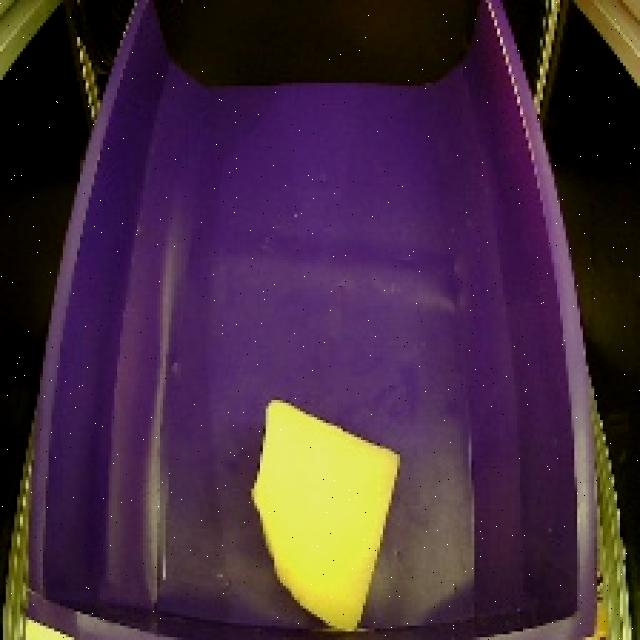potato: (232, 387, 412, 632)
